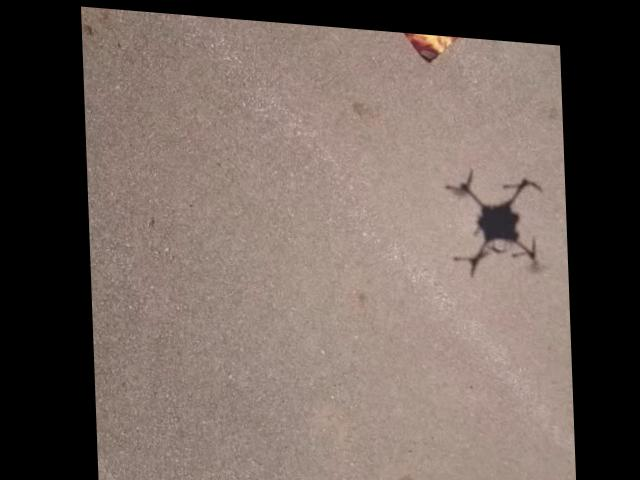fire-poster: (358, 23, 509, 62)
